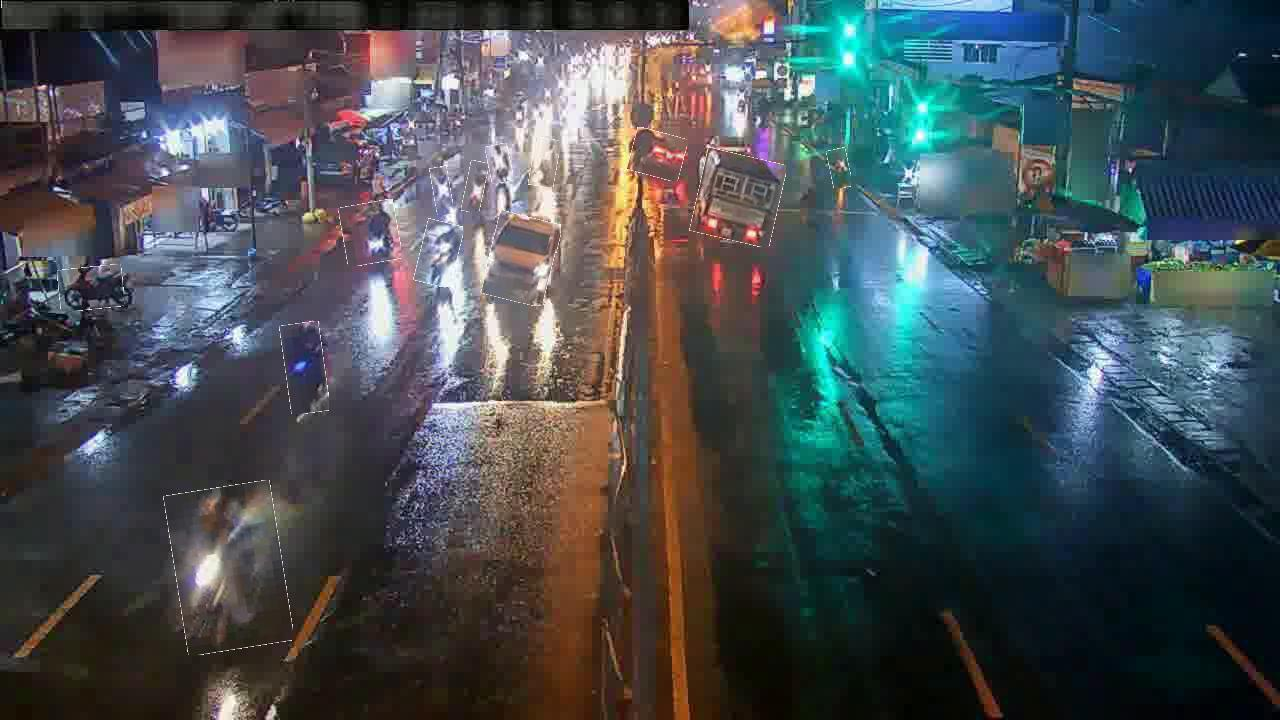8: (694, 151, 783, 244)
container: (486, 213, 558, 304), (630, 130, 686, 180)
motorbike: (169, 484, 288, 653), (282, 322, 327, 414), (341, 201, 400, 265), (58, 266, 124, 311), (417, 220, 461, 287), (530, 138, 559, 188), (464, 161, 487, 213), (431, 166, 452, 216), (487, 144, 513, 184), (828, 148, 851, 189)
